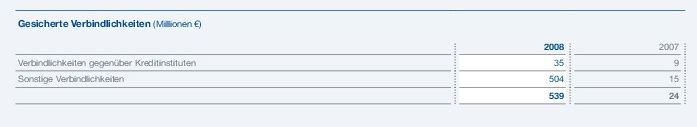table: (0, 0, 697, 127)
